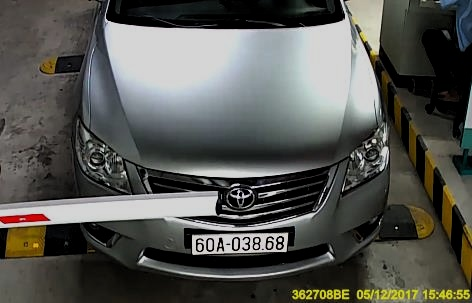plate: (187, 226, 293, 259)
